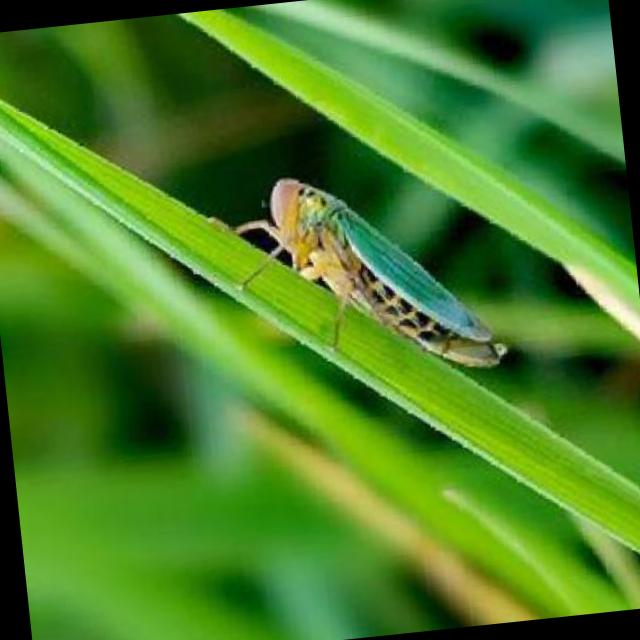green-leafhopper: (204, 152, 512, 400)
